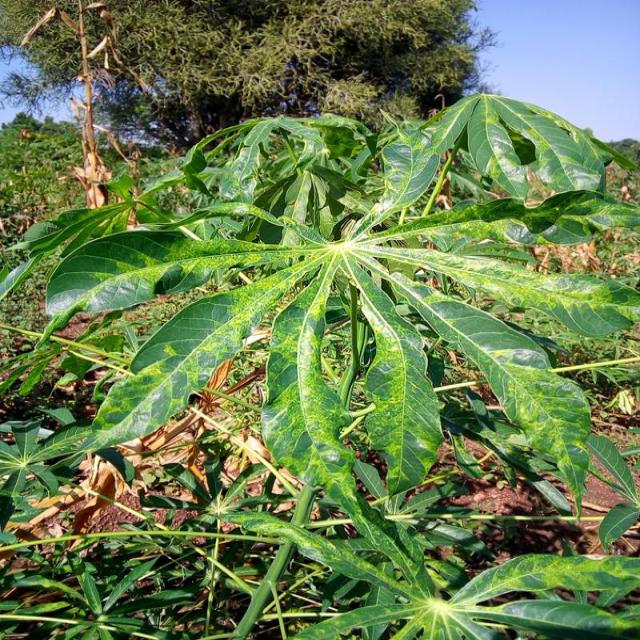cassava leaf: (32, 92, 638, 528)
